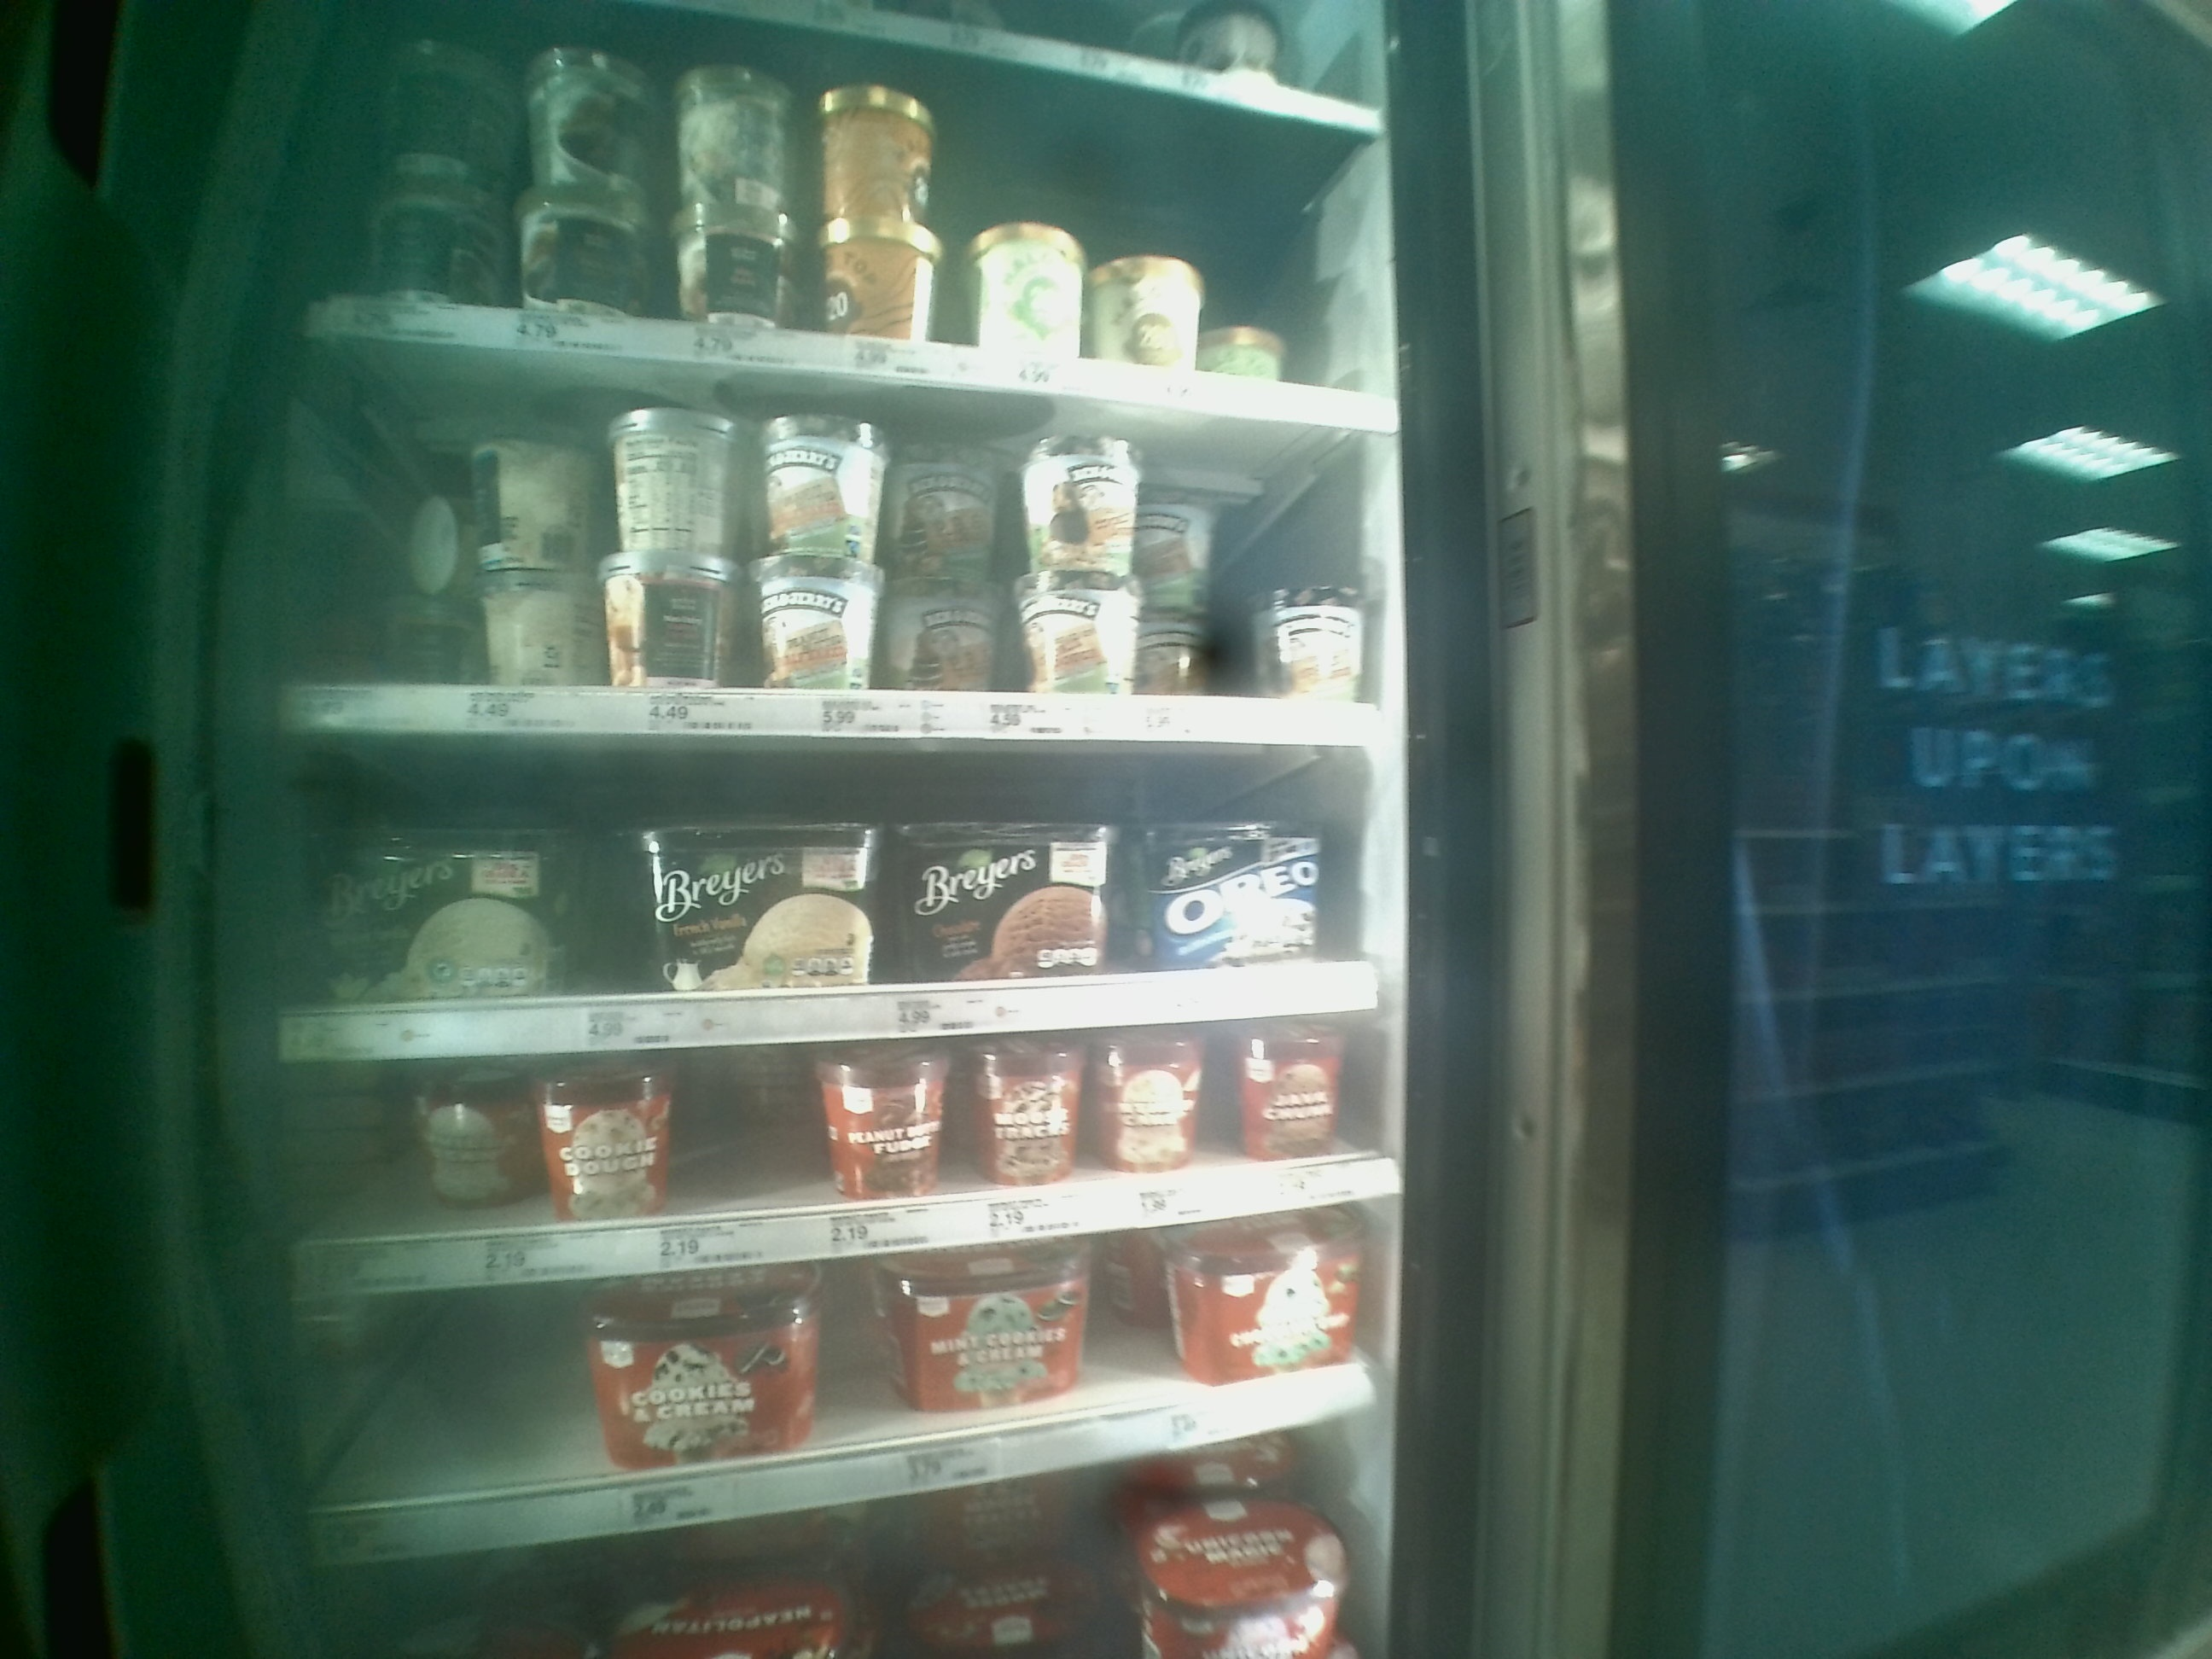shelf: (282, 371, 1392, 741), (286, 728, 1400, 1030), (291, 1014, 1395, 1263)
